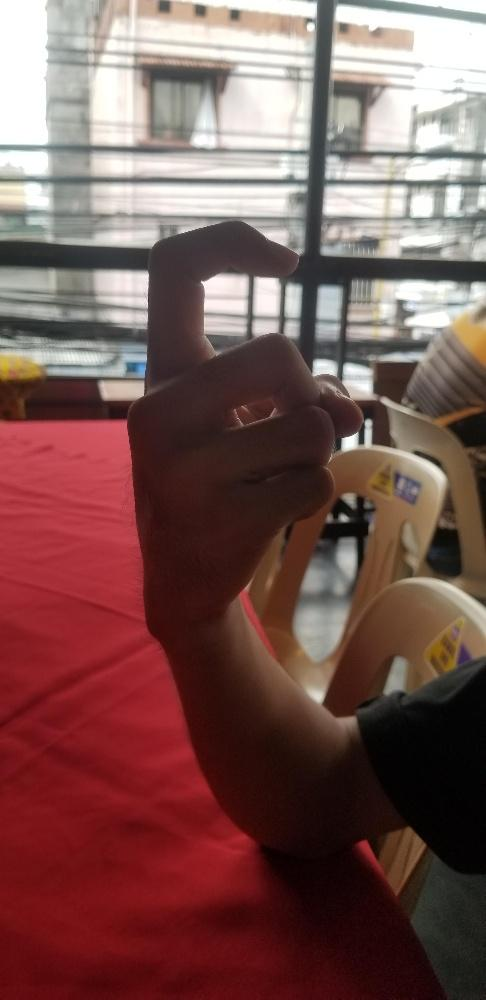x: (122, 218, 363, 620)
